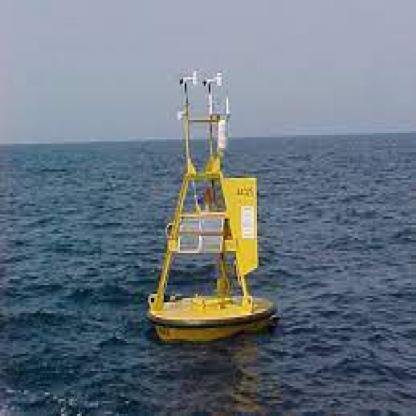buoy: (140, 56, 282, 354)
